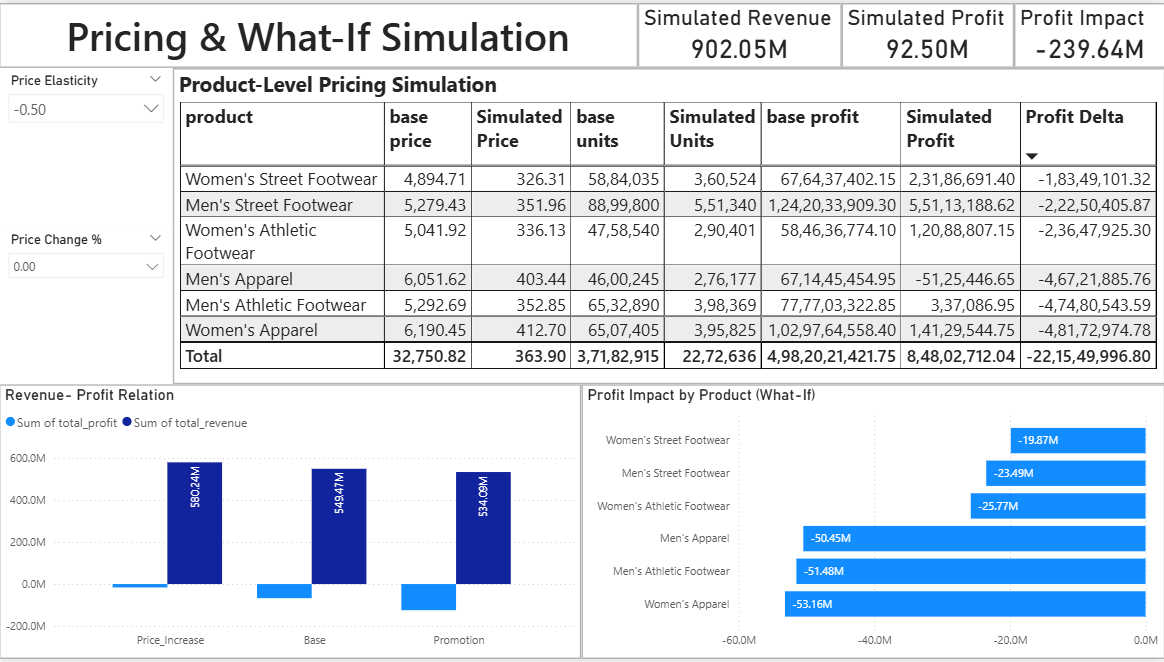

Layout of this report page (visuals, bound fields, positions):
{"tool":"powerbi","page":{"name":"Pricing & What-If Simulation","canvas":[1280,720],"ordinal":3},"visuals":[{"type":"textbox","box":[0,0,701.2,71.4],"z":0},{"type":"barChart","title":"Profit Impact by Product (What-If)","fields":{"Category":["Dim_Product.product"],"Y":["Table.Profit Delta"]},"box":[639.5,418.5,640.8,301.9],"z":1000},{"type":"clusteredColumnChart","title":"Revenue- Profit Relation","fields":{"Category":["Tbl_Scenario_Agg.scenario"],"Y":["Sum(Tbl_Scenario_Agg.total_profit)","Sum(Tbl_Scenario_Agg.total_revenue)"]},"box":[0,418.5,639.5,301.9],"z":2000},{"type":"card","title":"Simulated Profit","fields":{"Values":["Table.Simulated Profit"]},"box":[924.9,0,189.4,71.4],"z":4000},{"type":"card","title":"Profit Impact","fields":{"Values":["Table.Profit Delta"]},"box":[1114.2,0,166,71.4],"z":5000},{"type":"card","title":"Simulated Revenue","fields":{"Values":["Table.Simulated Revenue"]},"box":[701.2,0,223.7,71.4],"z":6000},{"type":"tableEx","title":"Product-Level Pricing Simulation","fields":{"Values":["Dim_Product.product","Sum(Tbl_WhatIf_Pricing.base_price)","Table.Simulated Price (avg)","Sum(Tbl_WhatIf_Pricing.base_units)","Table.Simulated Units","Sum(Tbl_WhatIf_Pricing.base_profit)","Table.Simulated Profit","Table.Profit Delta"]},"box":[190.7,71.4,1089.5,347.2],"z":7000},{"type":"slicer","fields":{"Values":["Price Change %.Price Change %"]},"box":[0,245.6,190.7,172.9],"z":8000},{"type":"slicer","fields":{"Values":["Price Elasticity.Price Elasticity"]},"box":[0,71.4,190.7,174.3],"z":9000}]}

Visuals, with their boxes in screenshot pixels (x1, y1, x2, y2), scaled from the page's 1280x720 canvas onto the 1164x662 screenshot:
textbox: x1=0, y1=0, x2=638, y2=66
"Profit Impact by Product (What-If)" barChart: x1=582, y1=385, x2=1163, y2=661
"Revenue- Profit Relation" clusteredColumnChart: x1=0, y1=385, x2=582, y2=661
"Simulated Profit" card: x1=841, y1=0, x2=1013, y2=66
"Profit Impact" card: x1=1013, y1=0, x2=1163, y2=66
"Simulated Revenue" card: x1=638, y1=0, x2=841, y2=66
"Product-Level Pricing Simulation" tableEx: x1=173, y1=66, x2=1163, y2=385
slicer - Price Change %.Price Change %: x1=0, y1=226, x2=173, y2=385
slicer - Price Elasticity.Price Elasticity: x1=0, y1=66, x2=173, y2=226
